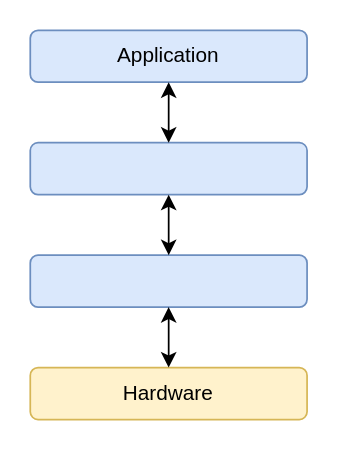
Some shapes in this 337 by 450 pixel diagram are drawn without their labels. The centre of each missing label's shape, as x and y in pixels:
"Driver" goes at point (168, 280).
"Service" goes at point (168, 168).
